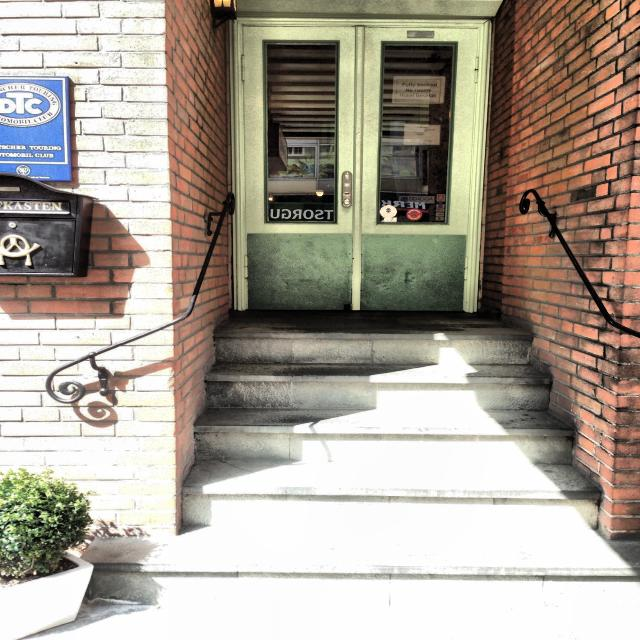escada: (175, 329, 599, 530)
